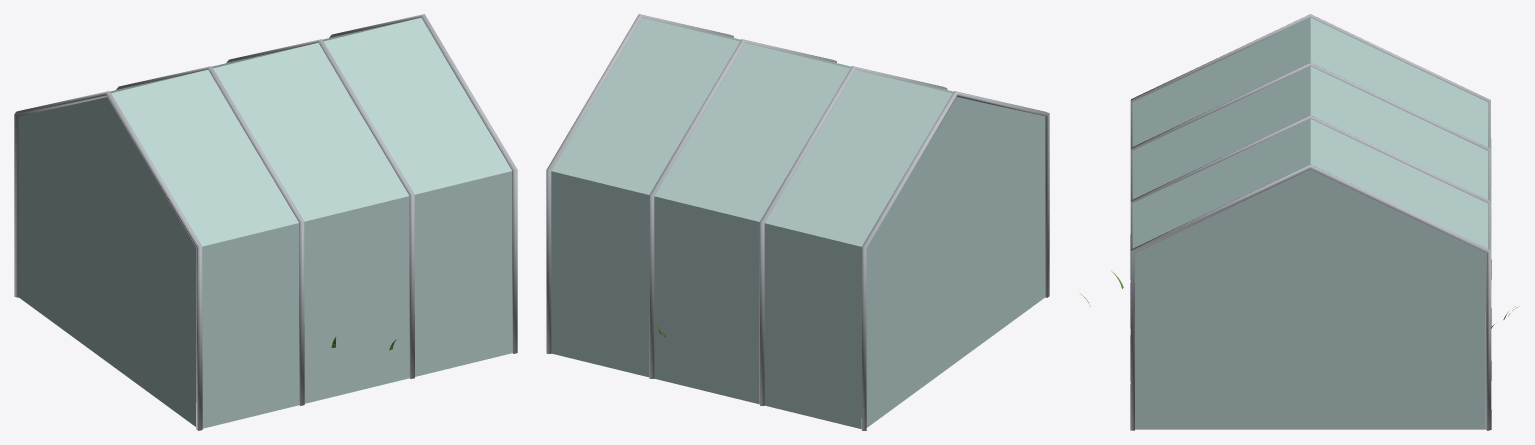
Rendered from city_greenhouse.glb.
3 views of the same model, side by side, from view 1: azimuth 30°, elevation 25°; view 2: azimuth 150°, elevation 25°; view 3: azimuth 270°, elevation 25° (orthographic). The views are drawn at different scales.
Parts seen in each view (by area): view 1: CityGreenhouse_Glass, CityGreenhouse_Rib0.1, CityGreenhouse_Rib1.33, CityGreenhouse_Rib2.66, CityGreenhouse_Rib3.9; view 2: CityGreenhouse_Glass, CityGreenhouse_Rib0.1, CityGreenhouse_Rib1.33, CityGreenhouse_Rib3.9, CityGreenhouse_Rib2.66; view 3: CityGreenhouse_Glass, CityGreenhouse_Rib3.9, CityGreenhouse_Rib1.33, CityGreenhouse_Rib2.66, CityGreenhouse_Rib0.1.
Part boxes in pixels (bbox=[...]): CityGreenhouse_Glass: bbox=[18, 17, 512, 428]; CityGreenhouse_Rib0.1: bbox=[14, 91, 202, 430]; CityGreenhouse_Rib1.33: bbox=[116, 66, 304, 405]; CityGreenhouse_Rib2.66: bbox=[226, 39, 414, 378]; CityGreenhouse_Rib3.9: bbox=[329, 14, 517, 353]; CityGreenhouse_Glass: bbox=[551, 17, 1045, 429]; CityGreenhouse_Rib0.1: bbox=[861, 91, 1049, 430]; CityGreenhouse_Rib1.33: bbox=[759, 66, 947, 405]; CityGreenhouse_Rib3.9: bbox=[546, 14, 733, 353]; CityGreenhouse_Rib2.66: bbox=[649, 39, 836, 378]; CityGreenhouse_Glass: bbox=[1132, 17, 1488, 429]; CityGreenhouse_Rib3.9: bbox=[1130, 164, 1491, 430]; CityGreenhouse_Rib1.33: bbox=[1130, 62, 1491, 328]; CityGreenhouse_Rib2.66: bbox=[1130, 115, 1491, 381]; CityGreenhouse_Rib0.1: bbox=[1130, 14, 1491, 279].
Size of the model in its own units: 3.87 by 3.13 by 4.73.
